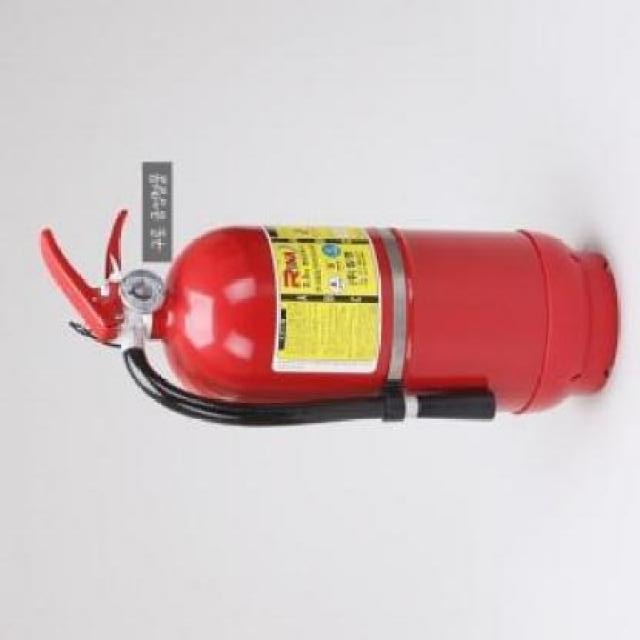fire extinguisher: (38, 208, 620, 426)
